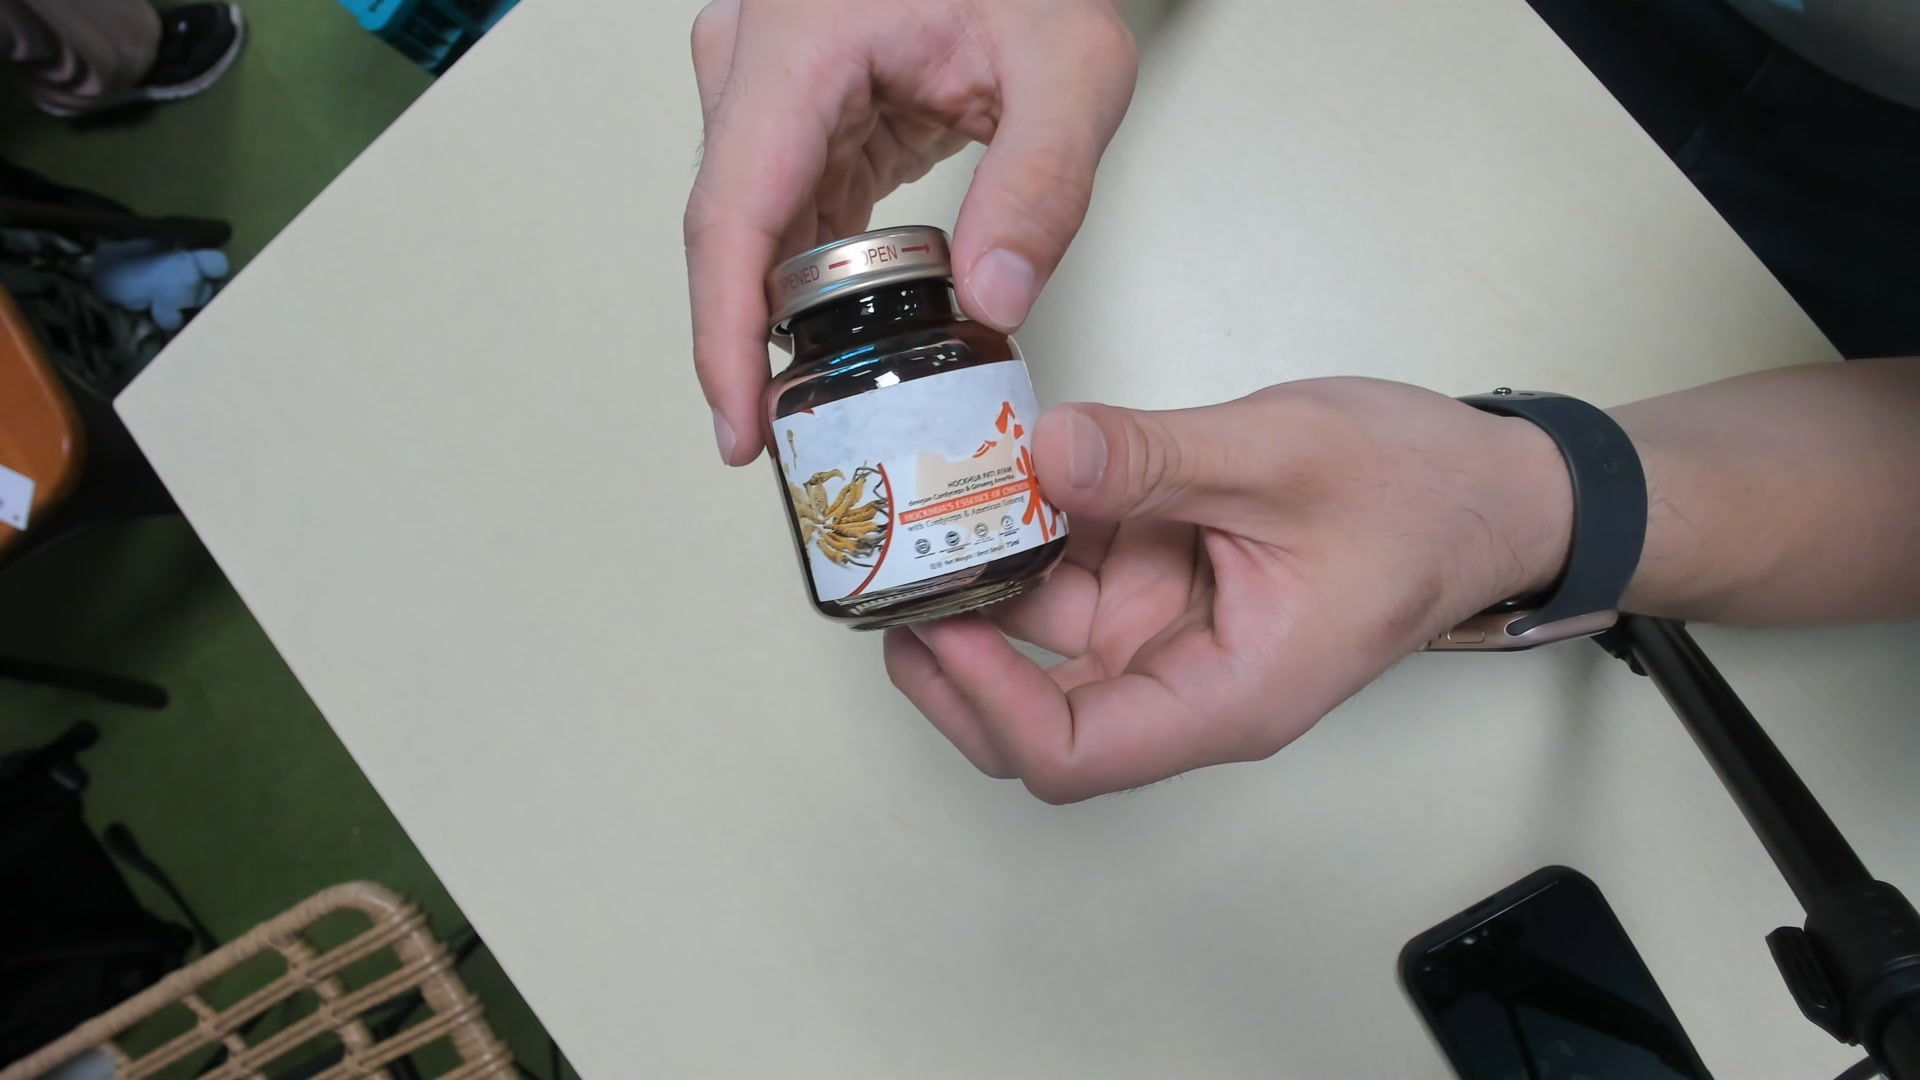OtherSauceDressing_0-99g_NonHalal_NonHealthy: (767, 225, 1073, 640)
